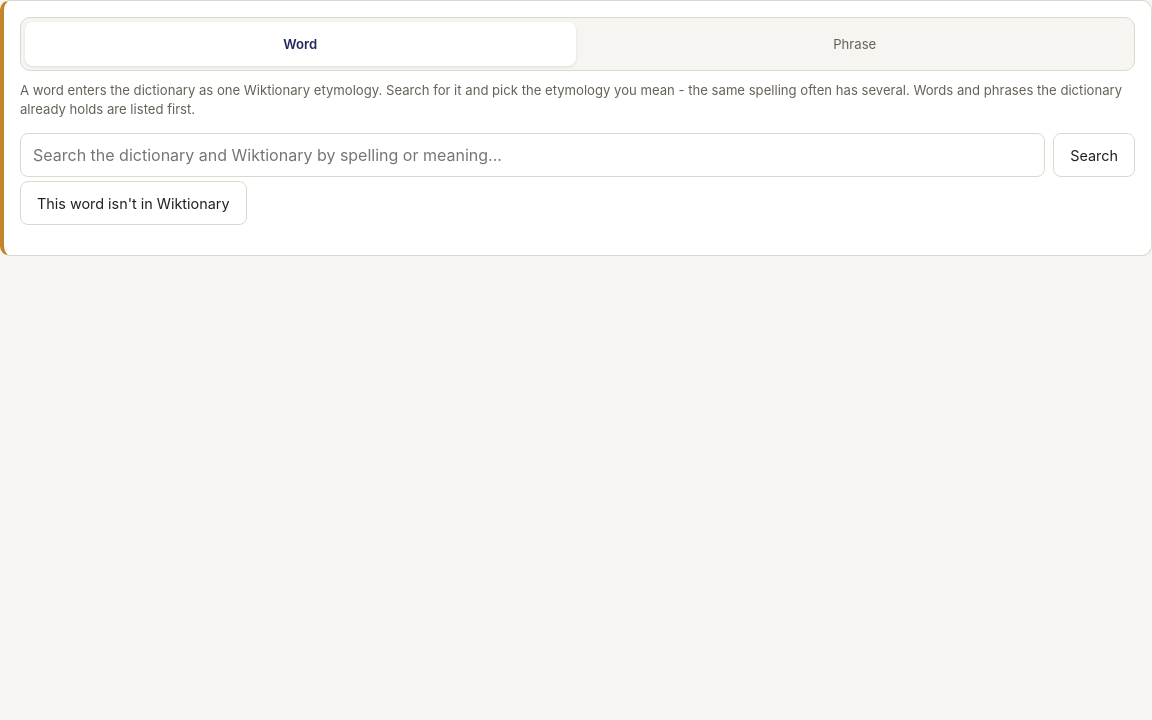
AddWord - Word tab › searches Kaikki, picks a result, and shows a syllables preview and word_id preview
The width and height of the screenshot is (1152, 720).
Click the button "Search".
click(1094, 155)  # box [1053, 133, 1135, 177]
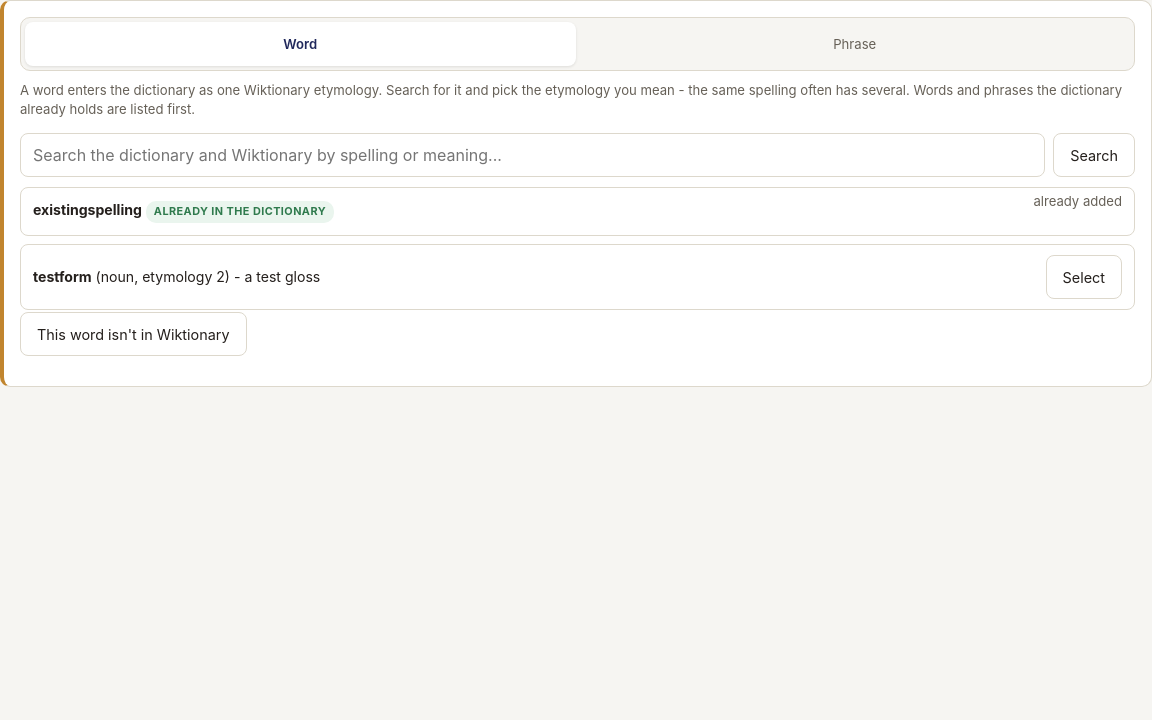
Now the text "testform" is shown, box [33, 268, 92, 285]
Click the button "Select".
click(1084, 277)  # box [1046, 255, 1122, 299]
(page scrolled)
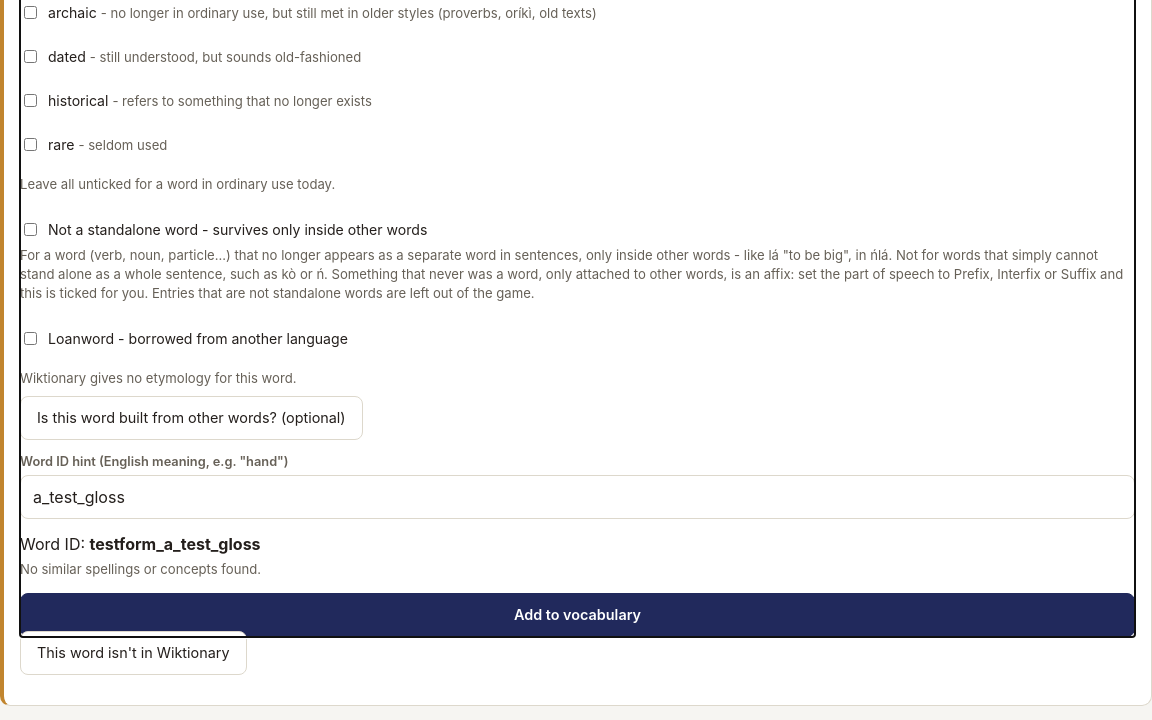
Replace the text in the field labelled "Word ID hint (English meaning, e.g. \"hand\")" with "meaning" at {"x": 578, "y": 497}, box [20, 475, 1135, 519]
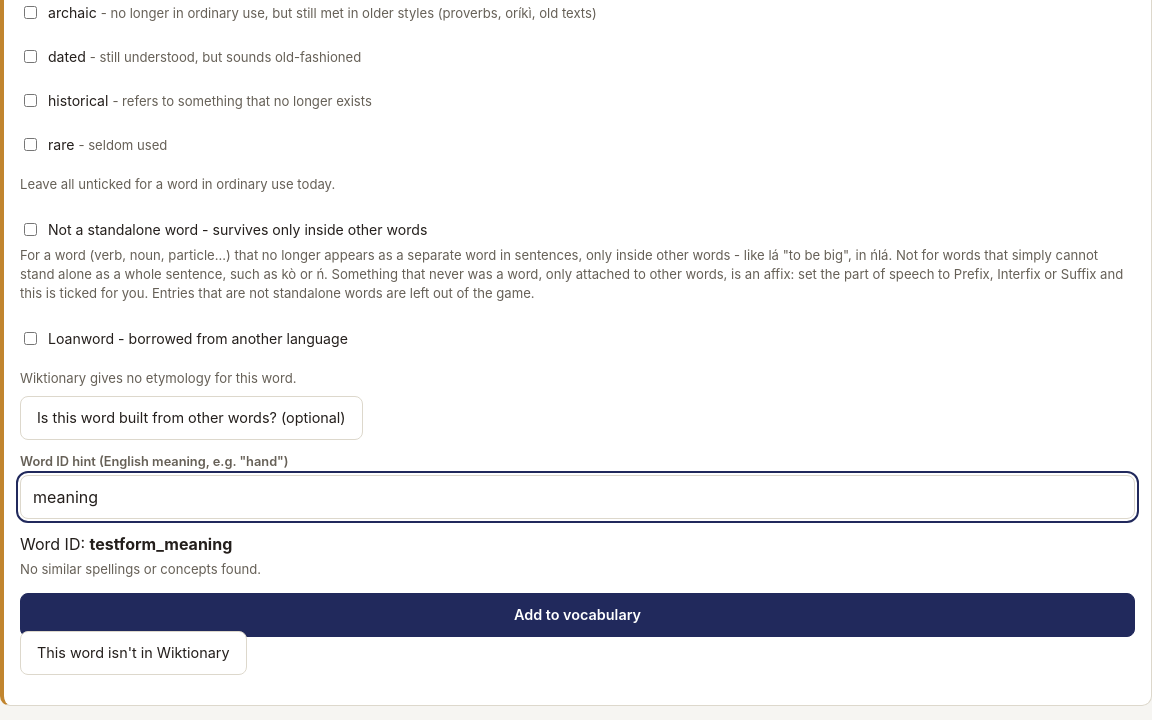
Now the text "testform_meaning" is shown, box [90, 534, 232, 554]
